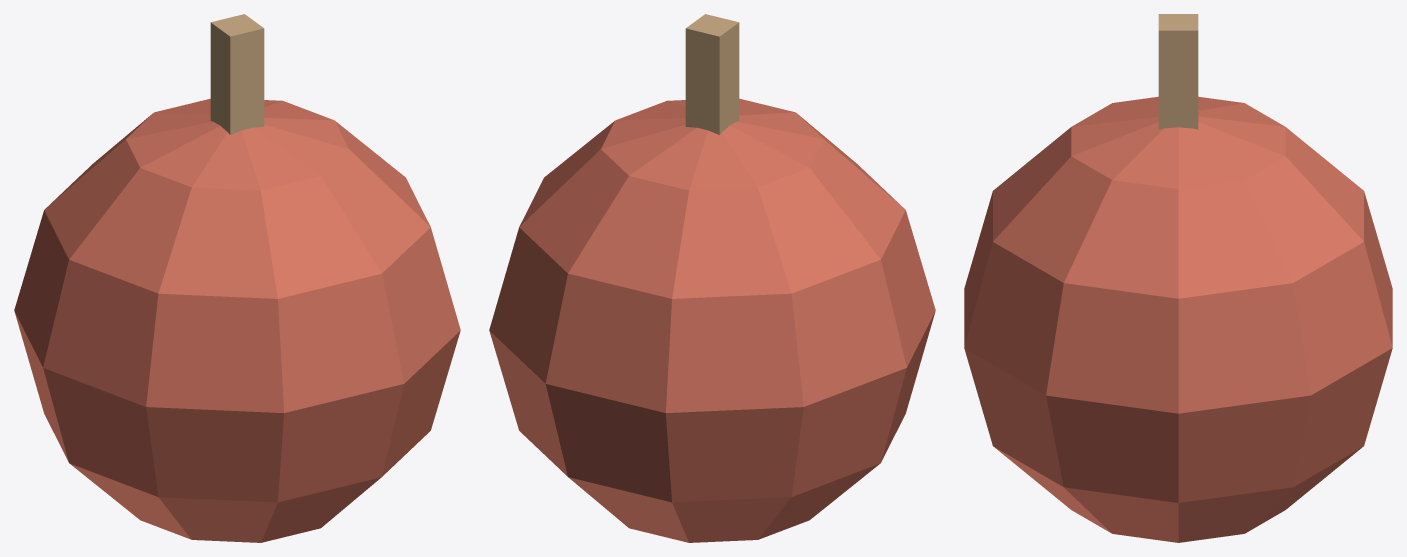
Rendered from supermarket-operations-apple-22605b06__26896.glb.
3 renders of one model, left to right at view 1: azimuth 30°, elevation 25°; view 2: azimuth 150°, elevation 25°; view 3: azimuth 270°, elevation 25°, orthographic.
Visible parts, largest first — view 1: apple; view 2: apple; view 3: apple.
Part boxes in pixels (x1,y1,x2,y2): apple: [14, 14, 460, 542]; apple: [489, 14, 935, 542]; apple: [964, 14, 1392, 542].
Size of the model in its own units: 0.08 by 0.098 by 0.0761.
